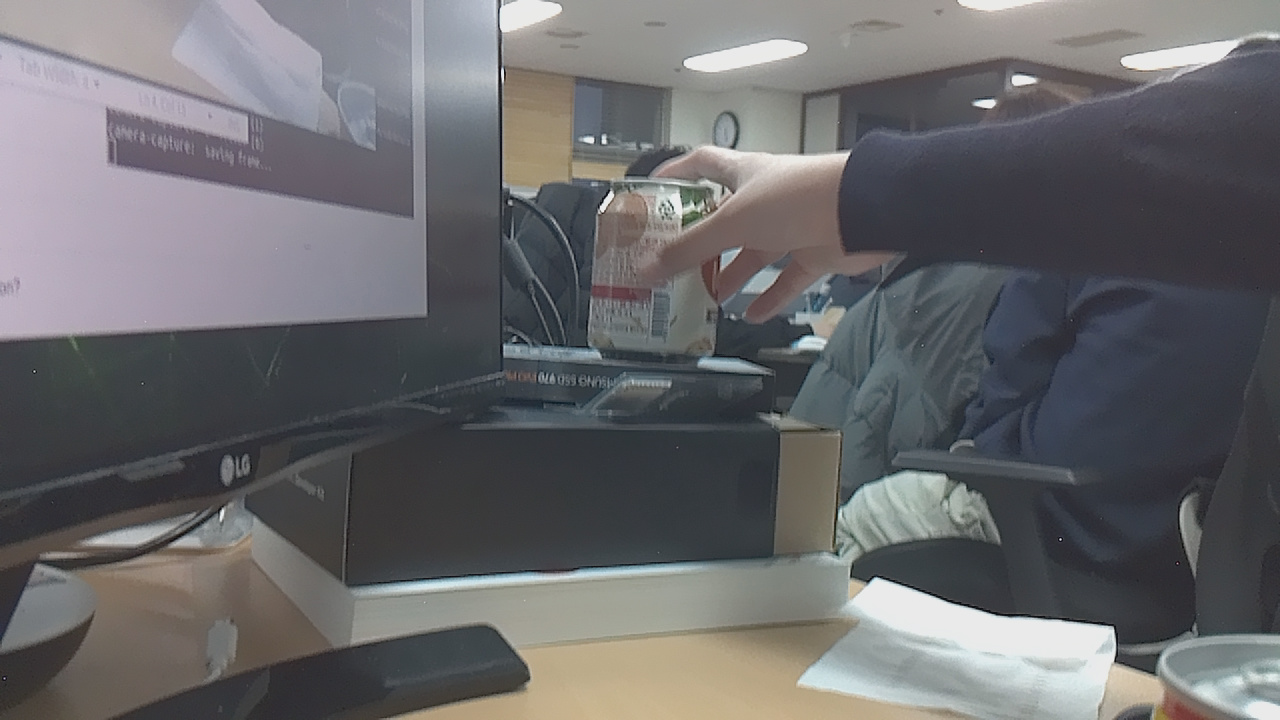IdH (pear juice): (580, 192, 737, 386)
